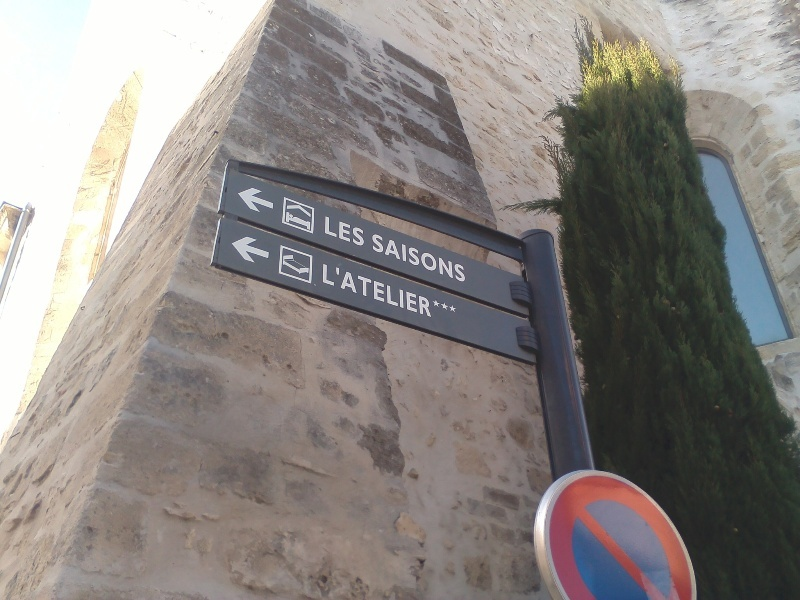text: (417, 263, 433, 320), (337, 263, 352, 320), (353, 263, 368, 320), (369, 263, 384, 320), (385, 263, 400, 320), (401, 263, 416, 320), (322, 263, 336, 320), (385, 233, 400, 284), (401, 233, 416, 284), (417, 233, 432, 284), (433, 233, 448, 284), (449, 233, 464, 284), (372, 233, 384, 284), (337, 216, 352, 249), (353, 216, 366, 249), (326, 216, 336, 249), (465, 233, 467, 284)
